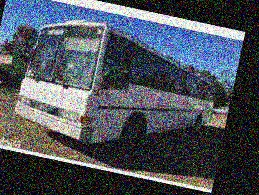bus: (14, 7, 227, 170)
